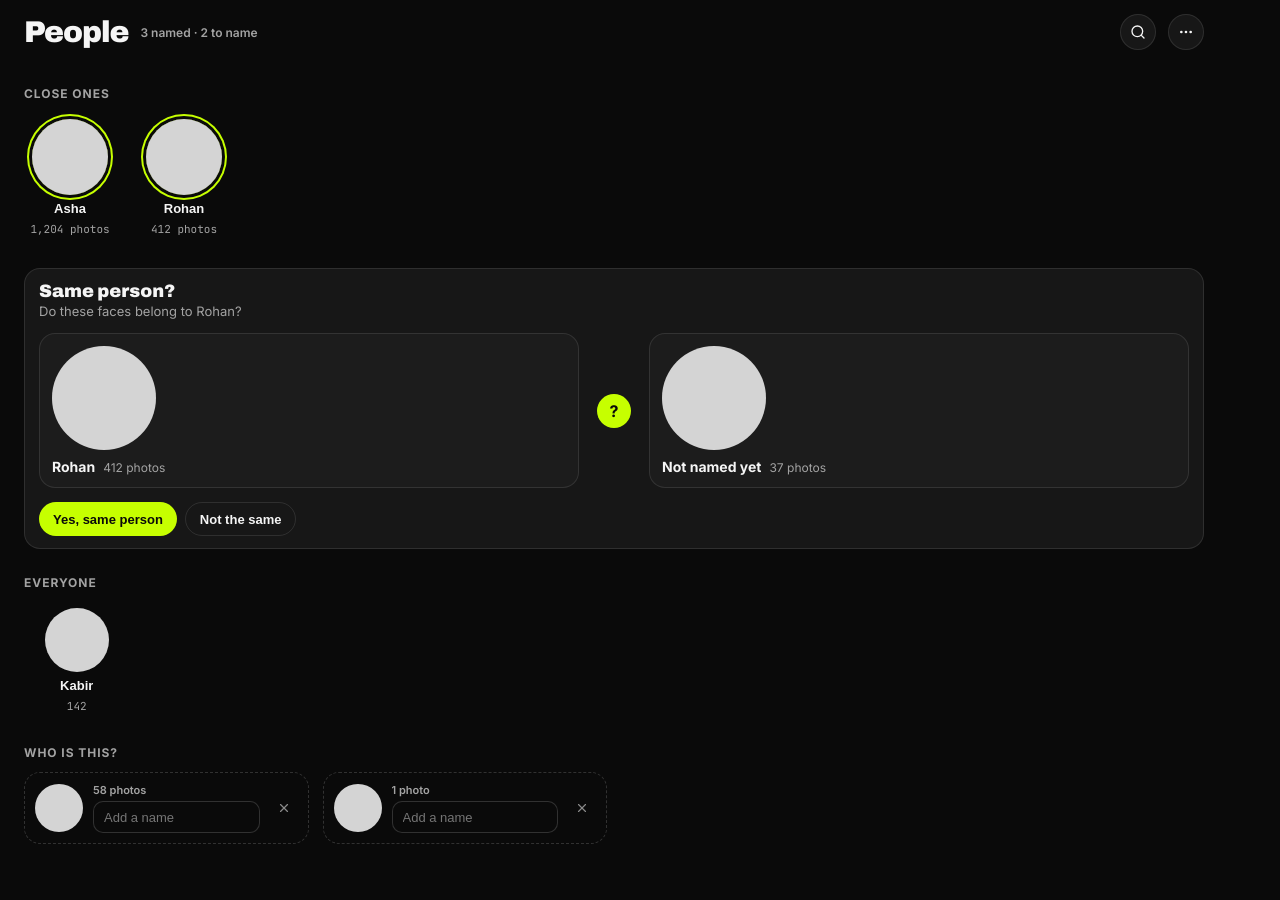
Test: PeopleOverview › asks 'Same person?' and merges on yes
Expected: the text "Same person?" is shown, [39, 281, 175, 301]
Expected: the text "Do these faces belong to Rohan?" is shown, [39, 303, 242, 319]
Step 1. Click the button "Yes, same person" → (108,519), box [39, 502, 177, 536]
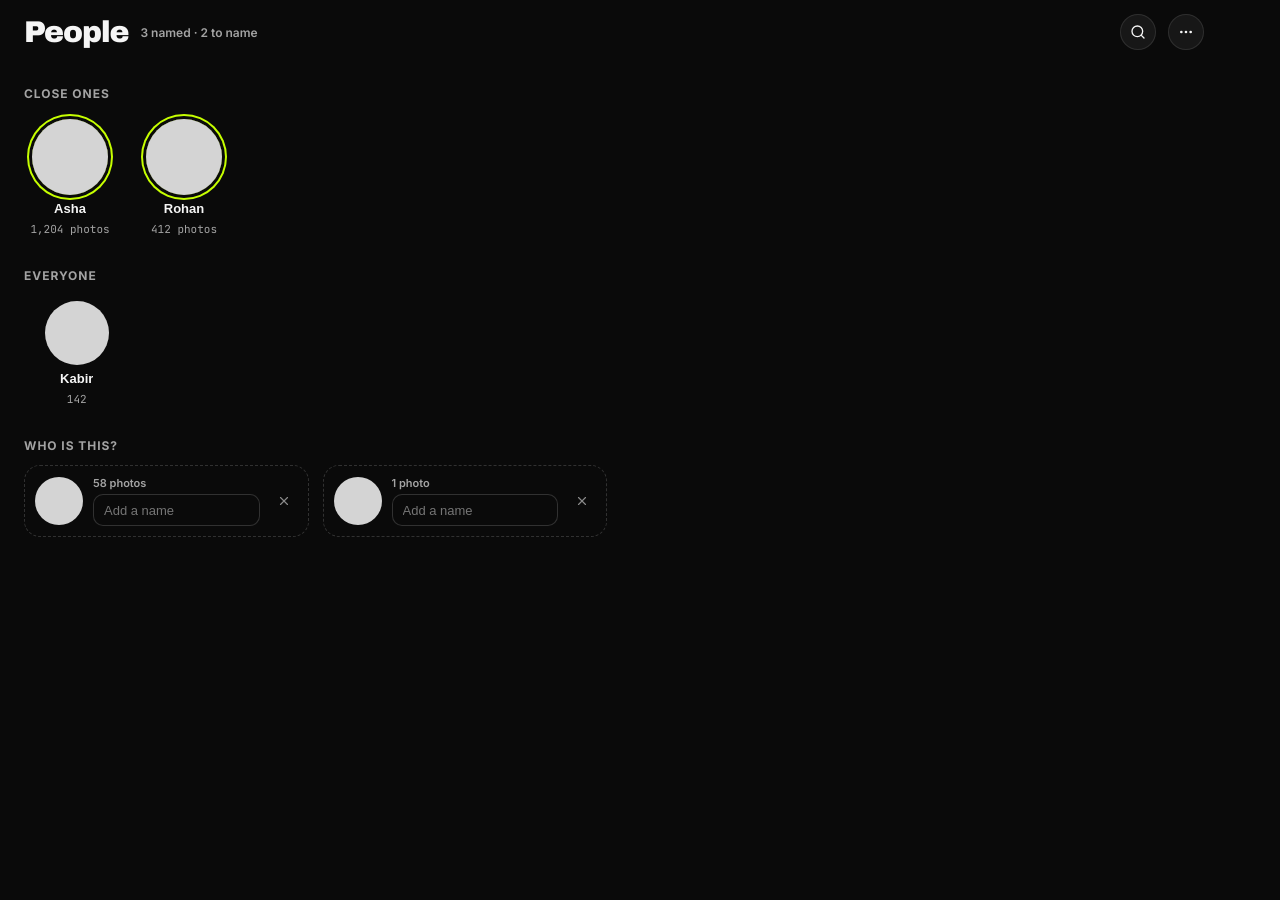
Result: the text "Same person?" is gone
